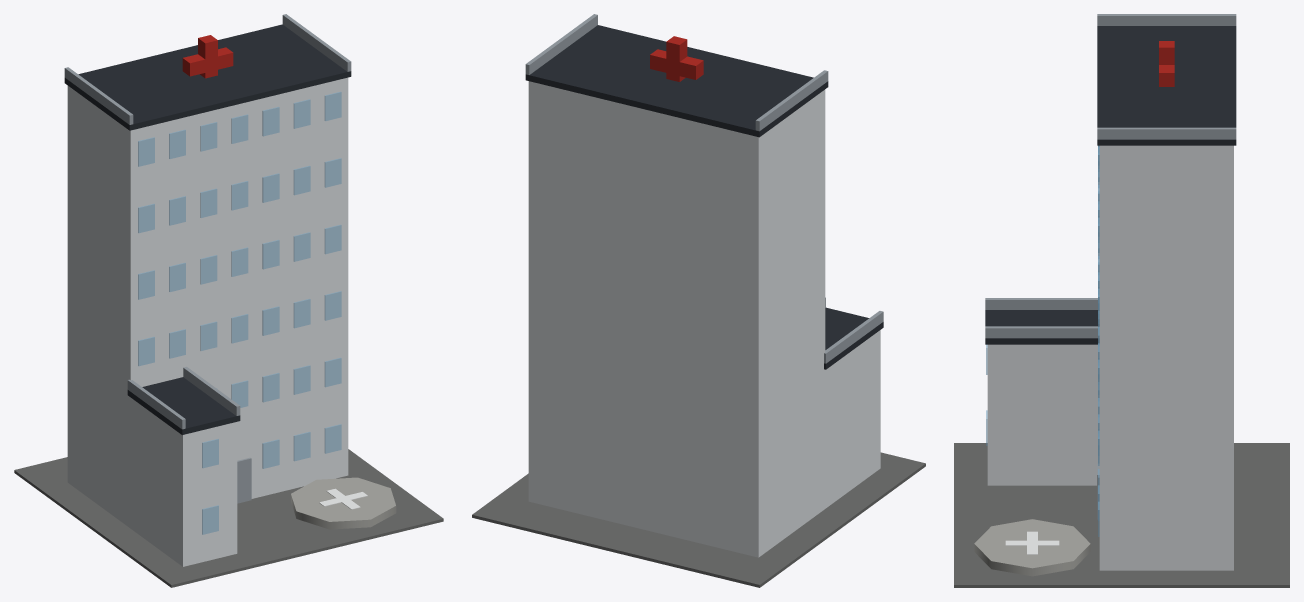
Rendered from bld_special_hospital_a08_lod1.glb.
The picture shows the model from 3 angles, left to right: view 1: azimuth 30°, elevation 25°; view 2: azimuth 150°, elevation 25°; view 3: azimuth 270°, elevation 25°; orthographic projection. The views are drawn at different scales.
Visible parts, largest first — view 1: body; view 2: body; view 3: body.
Boxes of the visible parts, bbox=[...] form: body: bbox=[14, 14, 443, 587]; body: bbox=[472, 14, 925, 587]; body: bbox=[954, 14, 1289, 587].
Bounding box in the file's own units: 15 × 23.3 × 15.
